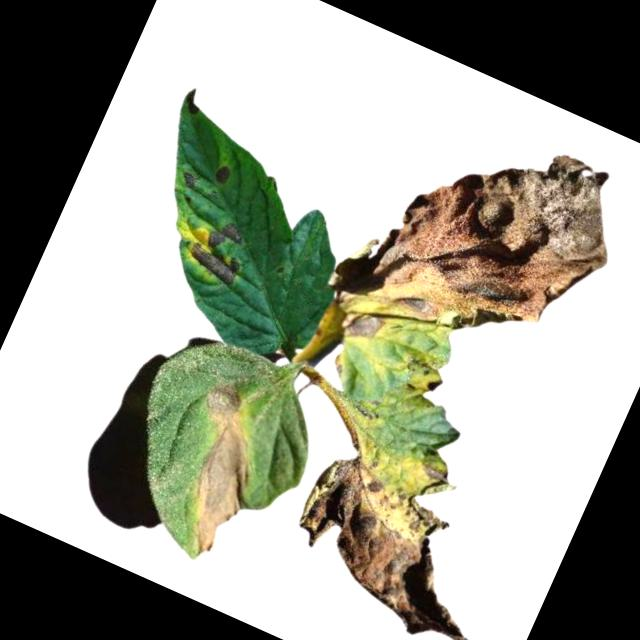Early_blight: (332, 89, 639, 394), (269, 418, 553, 640), (146, 376, 288, 562), (182, 212, 256, 289), (335, 305, 386, 352), (178, 85, 207, 119), (207, 161, 233, 189), (175, 168, 199, 191), (424, 376, 444, 394)
